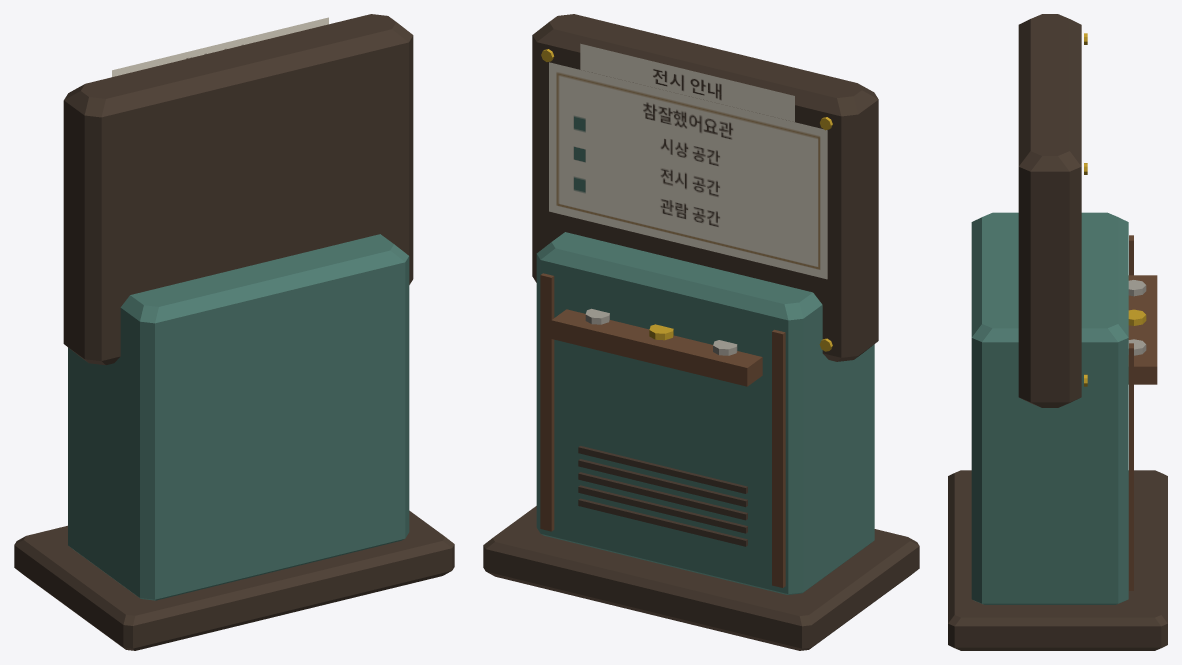
Rendered from A10_Exhibition_Guide_Kiosk.fbx.
The picture shows the model from 3 angles, left to right: view 1: azimuth 30°, elevation 25°; view 2: azimuth 150°, elevation 25°; view 3: azimuth 270°, elevation 25°; orthographic projection. The views are drawn at different scales.
Parts seen in each view (by area): view 1: Structure, Title; view 2: Structure, Guide_Screen, Controls, Title; view 3: Structure, Controls.
Part boxes in pixels (left/top/right/bottom): Structure: left=14, top=14, right=454, bottom=650; Title: left=112, top=17, right=328, bottom=76; Structure: left=483, top=14, right=919, bottom=650; Guide_Screen: left=549, top=62, right=827, bottom=279; Controls: left=551, top=308, right=762, bottom=386; Title: left=580, top=43, right=794, bottom=121; Structure: left=948, top=14, right=1167, bottom=650; Controls: left=1128, top=275, right=1157, bottom=384.
Bounding box in the file's own units: 1.4 × 2.1 × 0.85.
6 materials, 1 textured.
